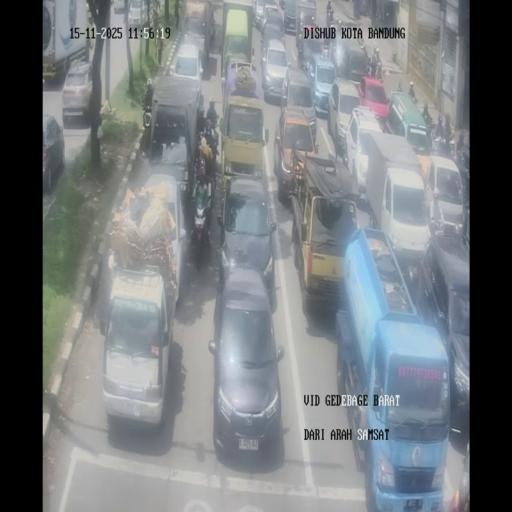car: (101, 265, 175, 431), (216, 176, 278, 303), (218, 94, 266, 194), (274, 104, 317, 203), (423, 154, 466, 235), (386, 91, 431, 154), (328, 76, 360, 152), (304, 53, 336, 118), (62, 61, 94, 126), (260, 38, 290, 104), (42, 114, 65, 192), (171, 40, 204, 90), (357, 76, 390, 126), (340, 43, 370, 84), (260, 4, 284, 42), (298, 12, 318, 51), (122, 0, 146, 26), (281, 0, 297, 22), (86, 2, 93, 24)
motorcycle: (190, 189, 212, 270), (140, 102, 152, 155), (205, 120, 220, 156), (195, 144, 208, 184), (336, 134, 348, 168), (442, 126, 455, 154), (196, 104, 206, 136), (421, 108, 433, 130), (428, 121, 438, 146), (374, 60, 383, 82), (174, 0, 180, 29), (406, 90, 418, 104), (321, 40, 329, 59), (260, 30, 265, 60), (326, 8, 334, 24)
truck: (337, 232, 448, 508), (292, 156, 360, 318), (361, 132, 427, 266), (147, 77, 203, 212), (220, 0, 254, 79)
